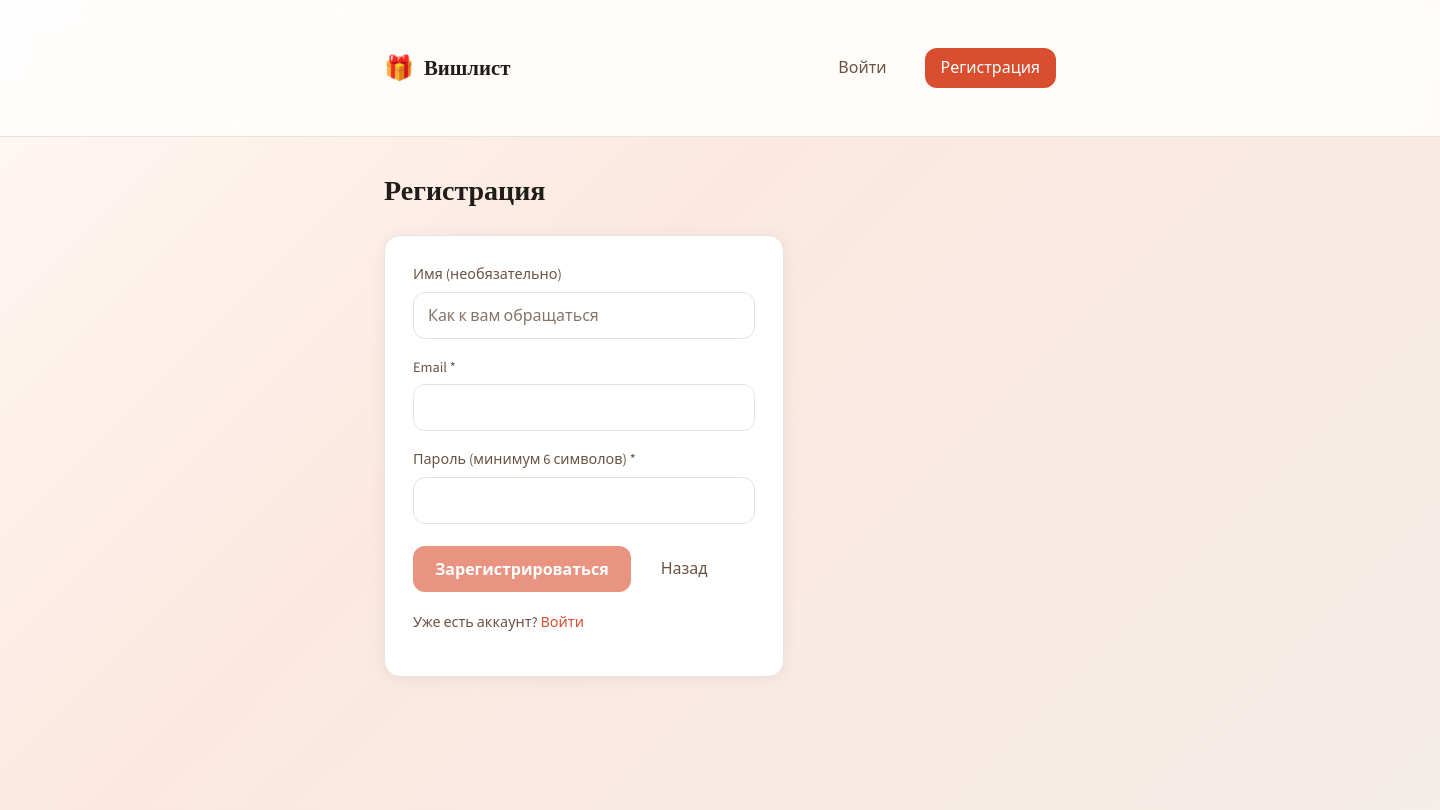
Test case: Register › при ошибке регистрации показывает сообщение
Type "test@test.com" into the field labelled "Email *" at (584, 408), box [413,384,755,431]
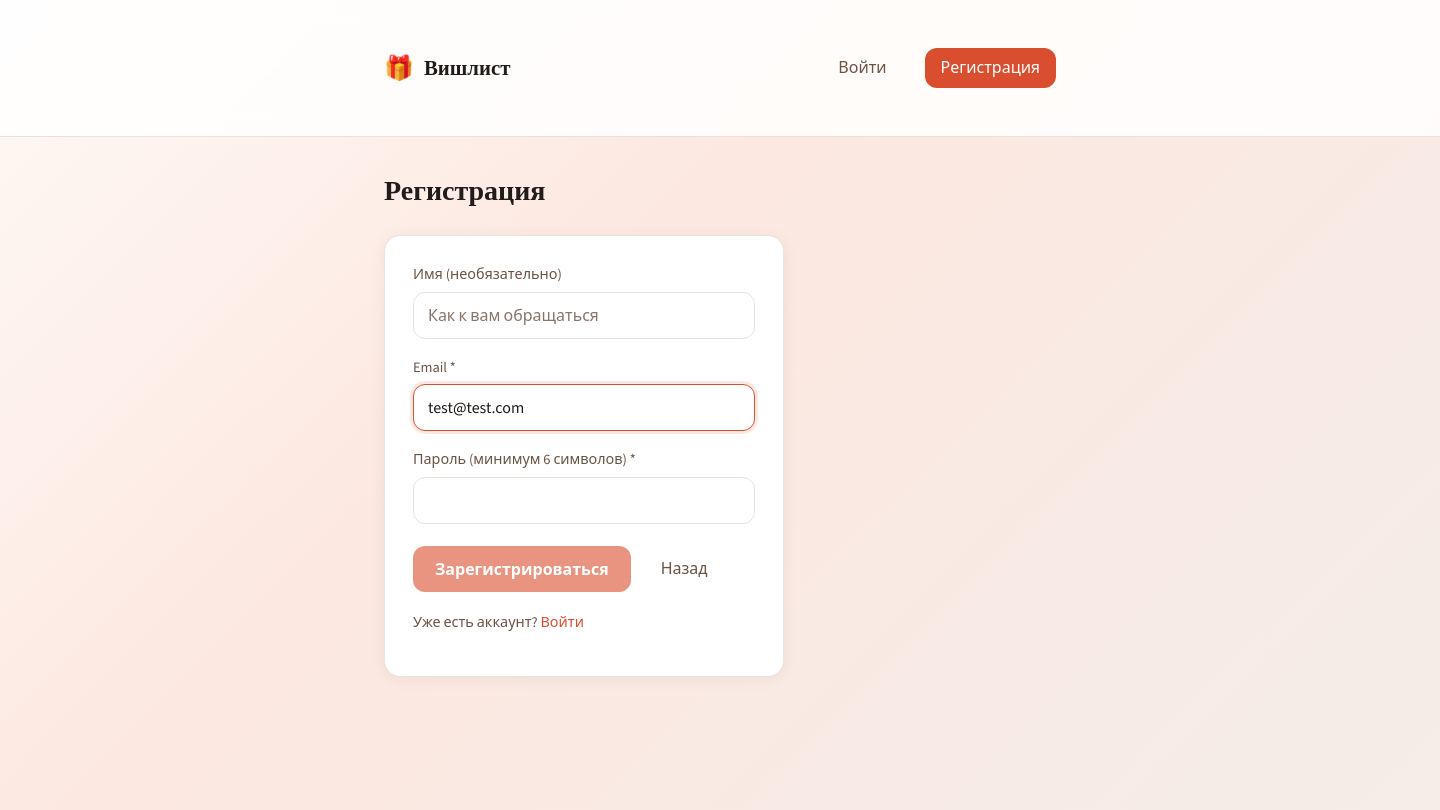
Type "123456" into the password field labelled "Пароль (минимум 6 символов) *" at (584, 500), box [413,477,755,524]
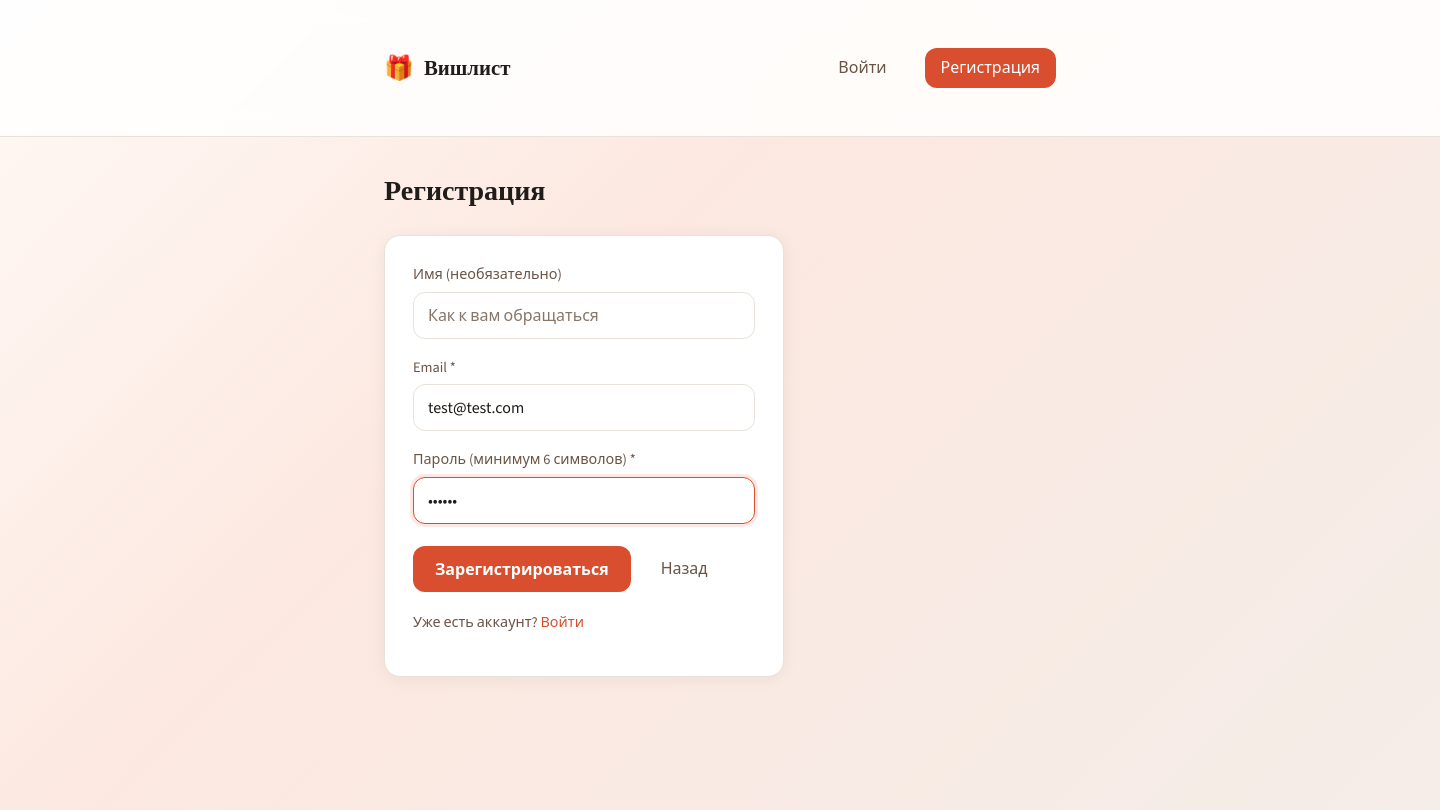
Click the button "Зарегистрироваться" at (522, 569), box [413,546,631,592]
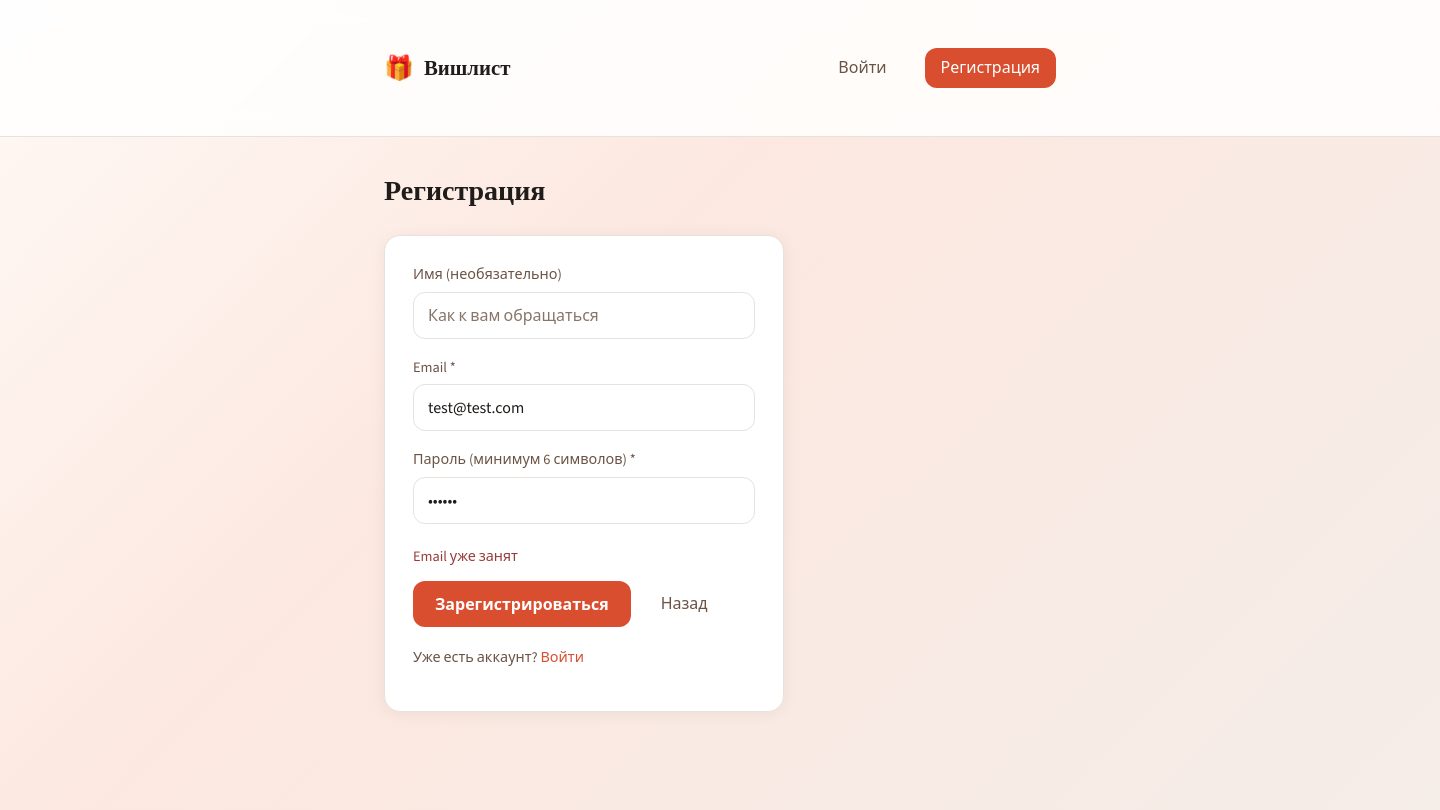
Now the text "Email уже занят" is shown, box [413,547,518,566]
